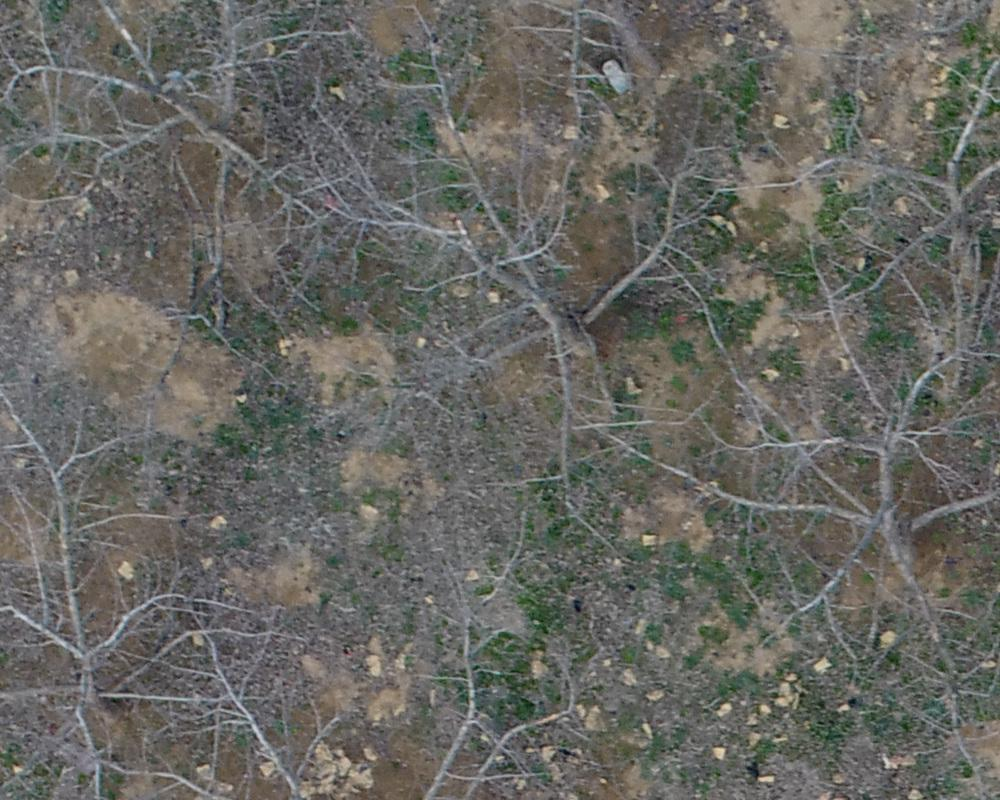apple: (325, 13, 768, 559), (602, 255, 990, 682), (10, 10, 428, 305), (10, 295, 259, 790), (86, 613, 588, 790), (750, 16, 990, 320)
